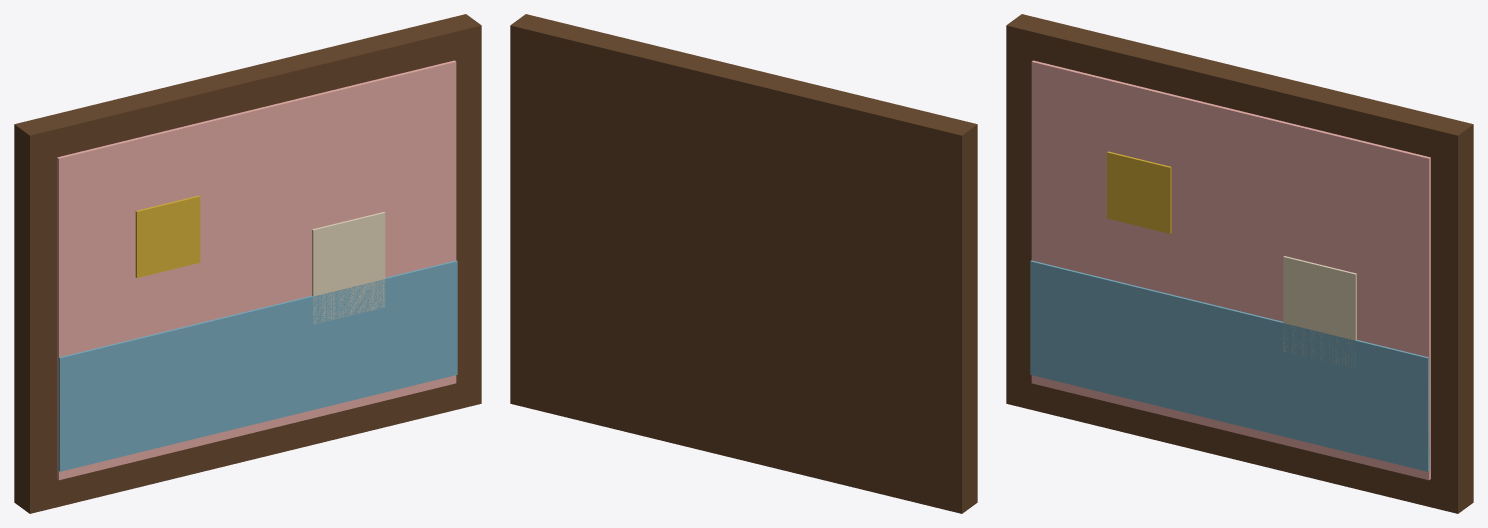
Rendered from GD_Frame_Landscape_03.glb.
The picture shows the model from 3 angles, left to right: view 1: azimuth 30°, elevation 25°; view 2: azimuth 150°, elevation 25°; view 3: azimuth 330°, elevation 25°; orthographic projection.
Visible parts, largest first — view 1: GD_Frame_Landscape_03; view 2: GD_Frame_Landscape_03; view 3: GD_Frame_Landscape_03.
Part boxes in pixels (left/top/right/bottom): GD_Frame_Landscape_03: left=14, top=14, right=481, bottom=513; GD_Frame_Landscape_03: left=510, top=14, right=977, bottom=513; GD_Frame_Landscape_03: left=1006, top=14, right=1473, bottom=513.
Bounding box in the file's own units: 0.5 × 0.4 × 0.036.
Materials: 1 (1 with a texture image).
